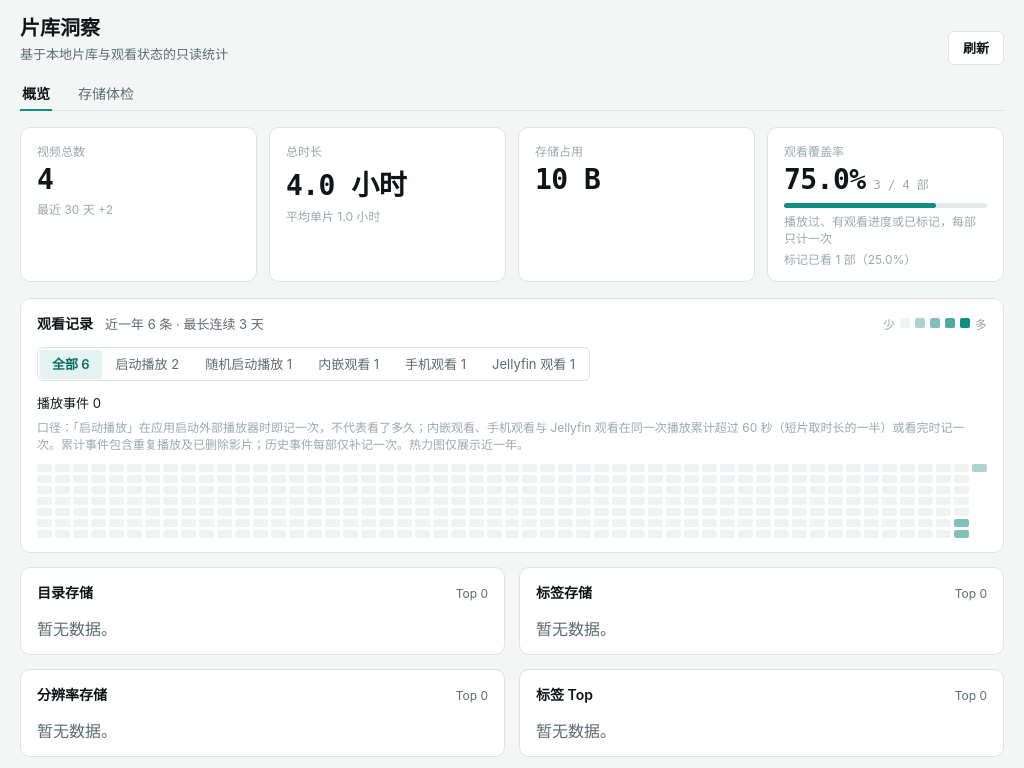
Test: InsightsPage 观看记录（P-037，D-PC43） › PLAY-07 选中某一来源后热力图只按该来源着色，悬停提示仍列出当天全部来源
The width and height of the screenshot is (1024, 768).
Click the radio button with test id "insights-heatmap-source-inline_view" at (349, 364), box [306,350,391,378]
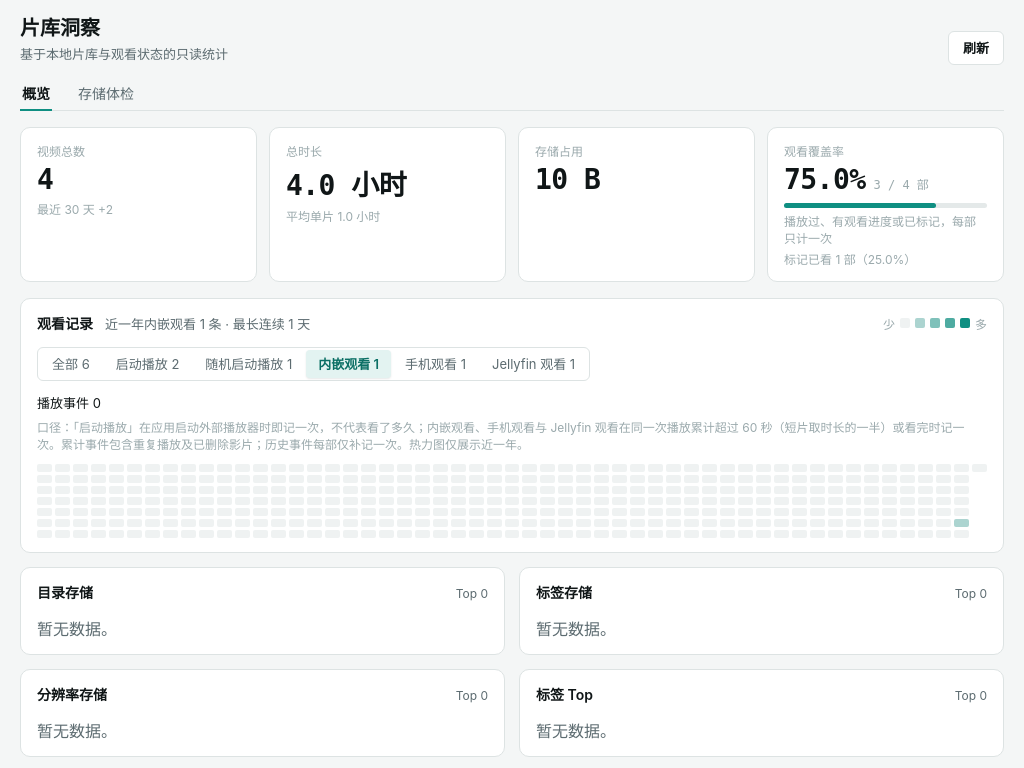
expect the text with test id "insights-heatmap-total" shows "近一年内嵌观看 1 条": met, box [105,316,310,332]
